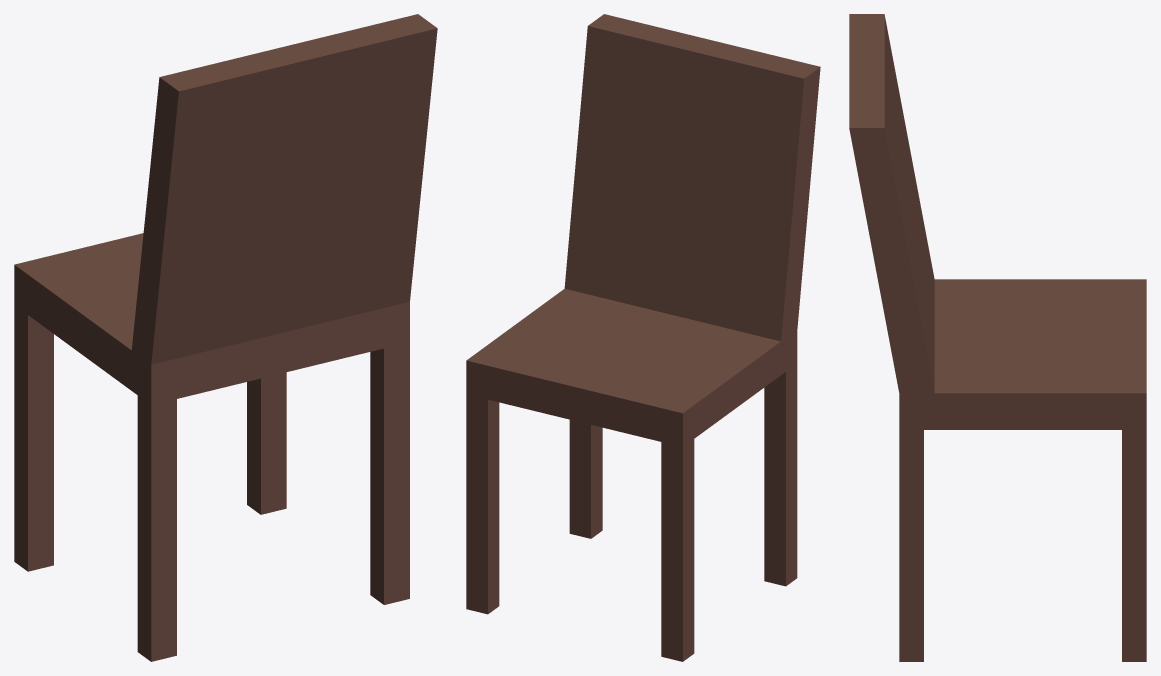
Rendered from chair.gltf.
3 renders of one model, left to right at view 1: azimuth 30°, elevation 25°; view 2: azimuth 150°, elevation 25°; view 3: azimuth 270°, elevation 25°, orthographic. The views are drawn at different scales.
Visible parts, largest first — view 1: chair; view 2: chair; view 3: chair.
Part boxes in pixels (bbox=[...]): chair: bbox=[14, 14, 437, 661]; chair: bbox=[466, 14, 820, 661]; chair: bbox=[849, 14, 1146, 661].
Size of the model in its own units: 0.4522 by 0.9867 by 0.4984.
1 material, 1 textured.
